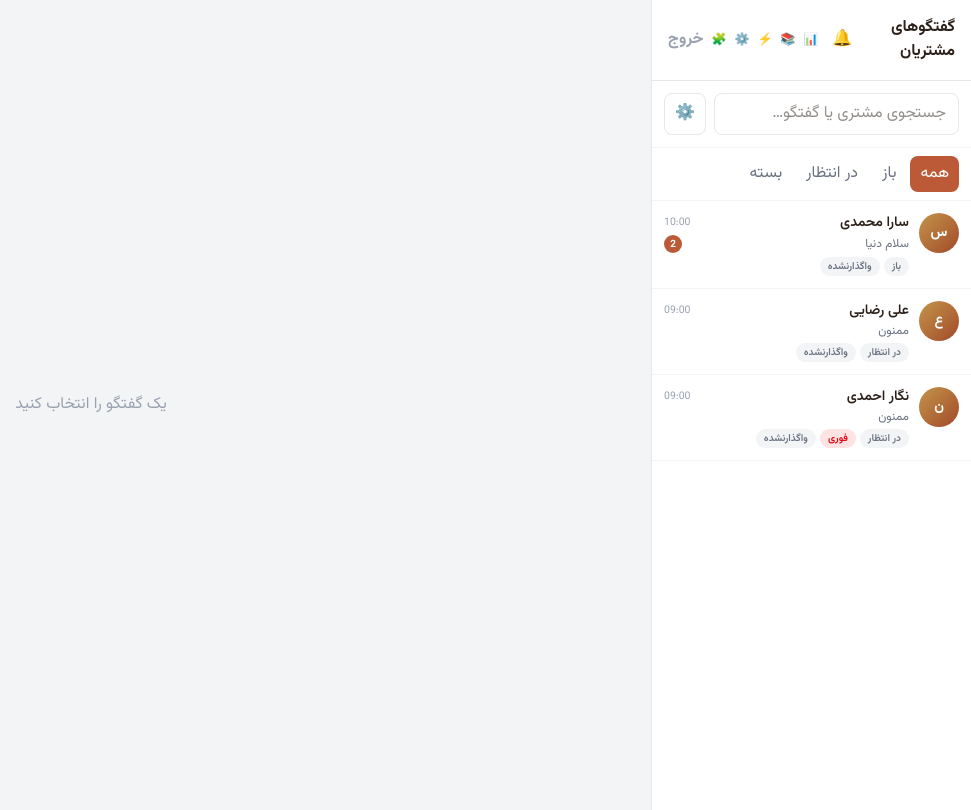
Test: Operator dashboard — customer conversations page › team operations: queues, priority, transfer, escalation, notes, quick replies, notifications › filters the list by queue, team, priority, and unassigned/mine
Expected: the text "سارا محمدی" is shown, [840,213,909,233]
Expected: the text "نگار احمدی" is shown, [847,387,909,407]
Click the button titled "فیلترها" at x=685, y=114, box [664,93,706,135]
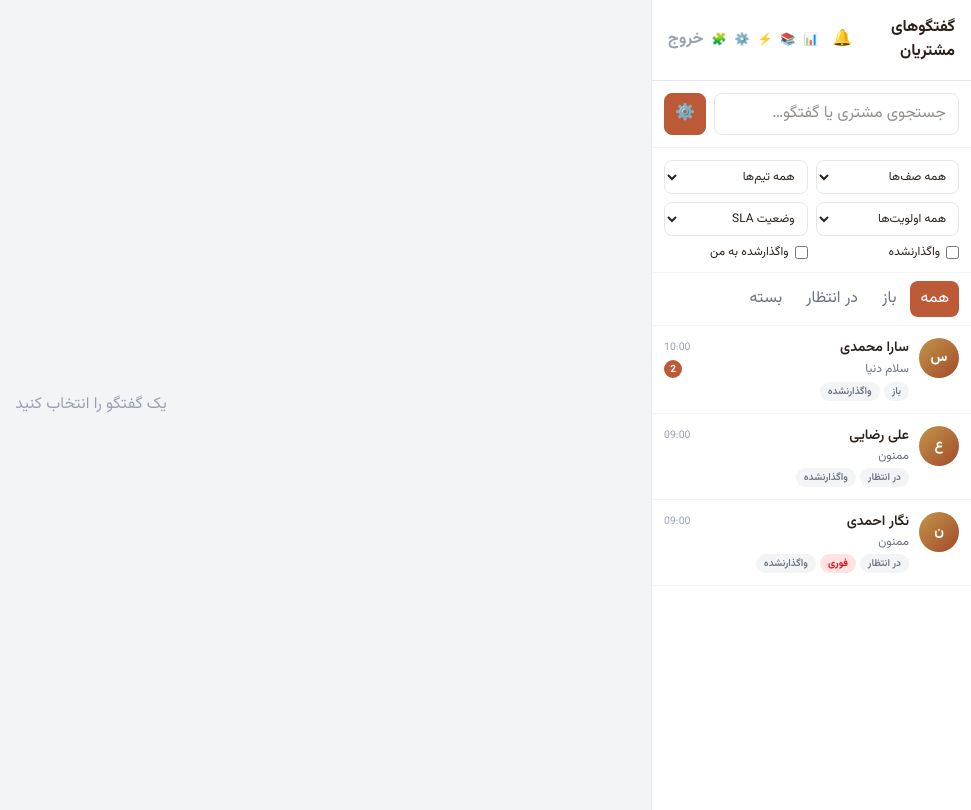
Select "فوری" in the 4th dropdown showing "همه اولویت‌ها" at x=887, y=219, box [816,202,959,236]
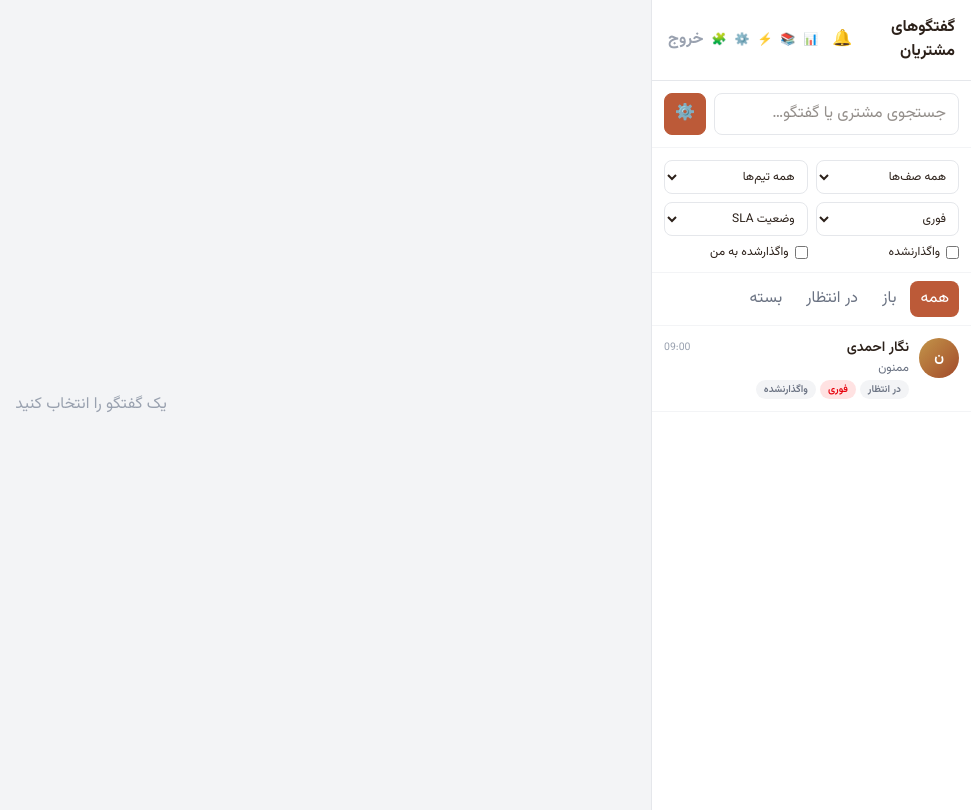
Expected: the text "نگار احمدی" is shown, [847,338,909,358]
Now the text "سارا محمدی" is gone
